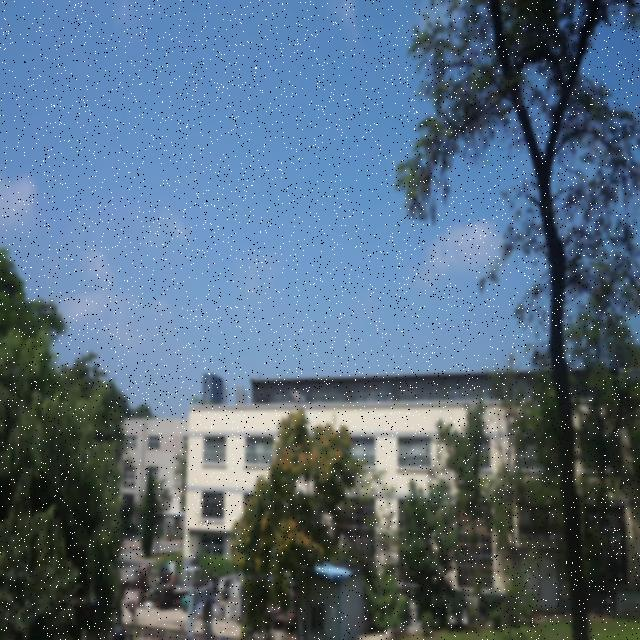UAV: (290, 390, 306, 406)
